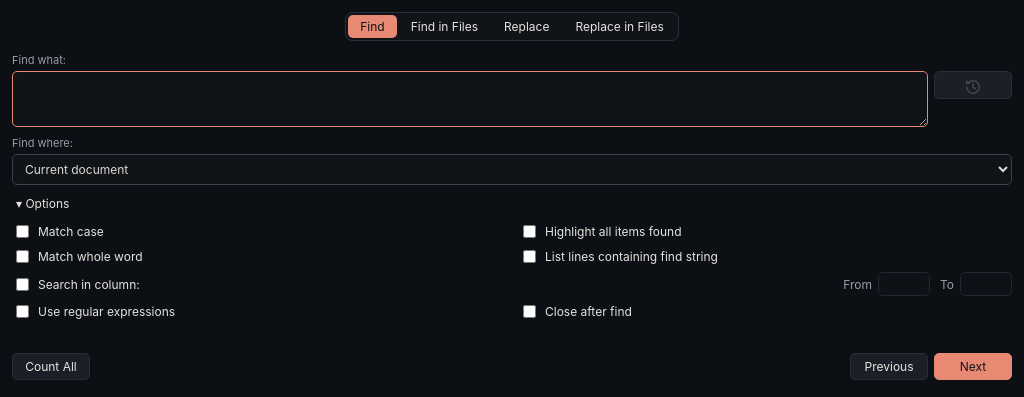
Test: explains a bad column range and holds the search back
The width and height of the screenshot is (1024, 397).
Click the checkbox labelled "Search in column:" at (22, 284), box [16, 278, 29, 290]
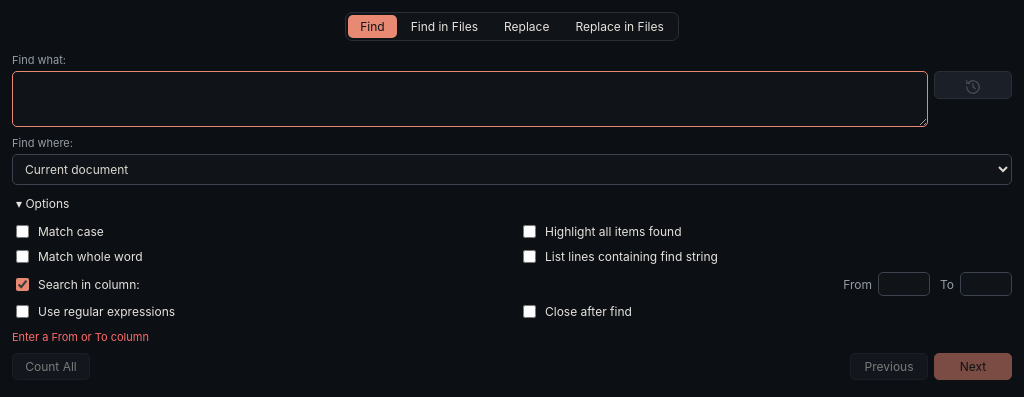
Type "9" into the field named "From column" at (904, 284), box [878, 272, 930, 296]
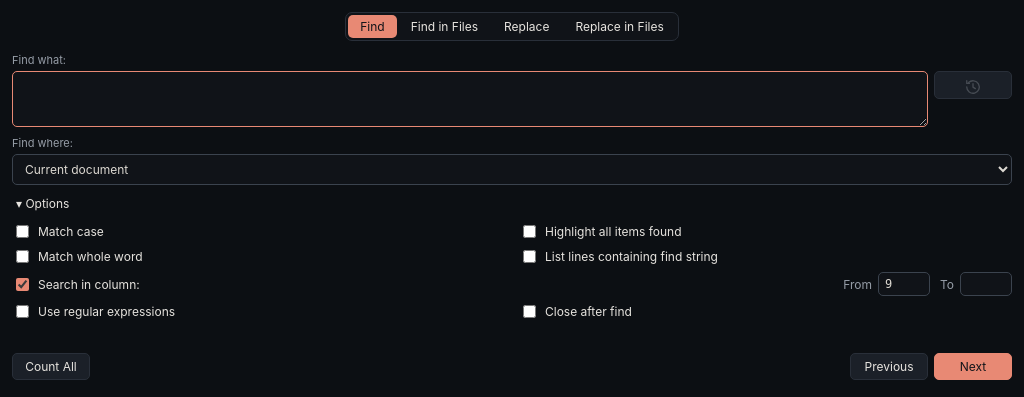
Type "2" into the field named "To column" at (986, 284), box [960, 272, 1012, 296]
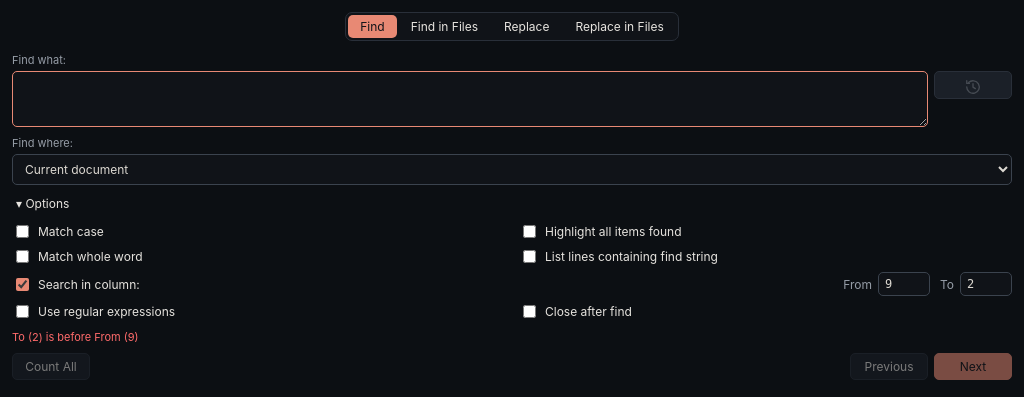
Now the message reads "To (2) is before From (9)", box [12, 330, 139, 344]
Now the button "Next" is disabled, box [934, 353, 1012, 380]
